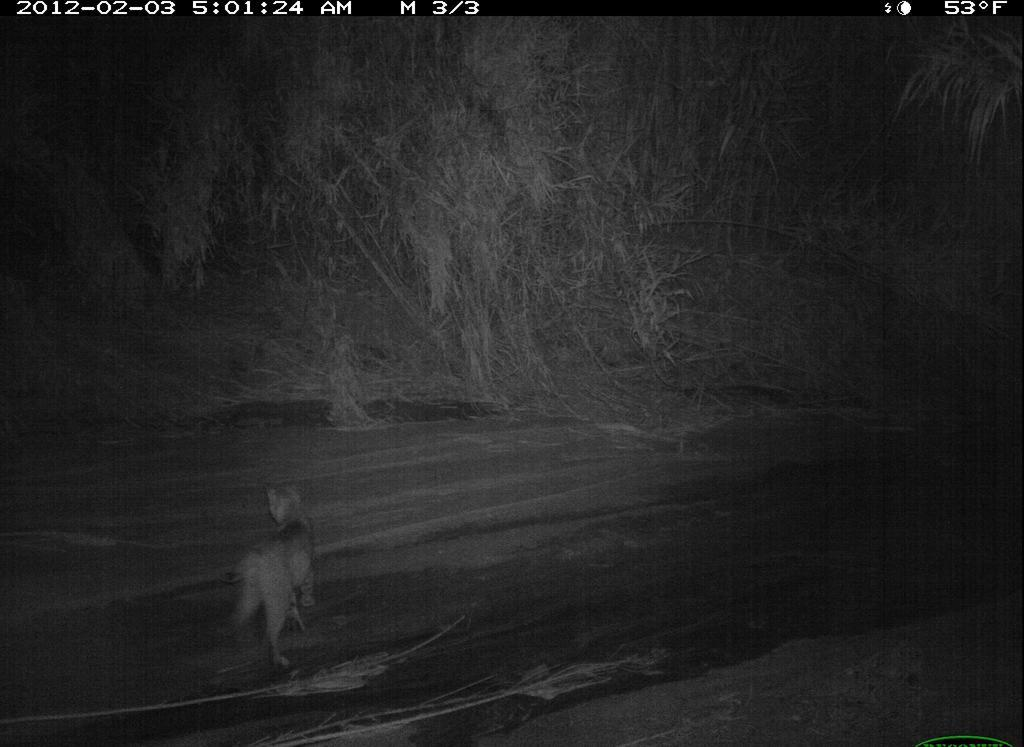bobcat: (216, 470, 347, 675)
